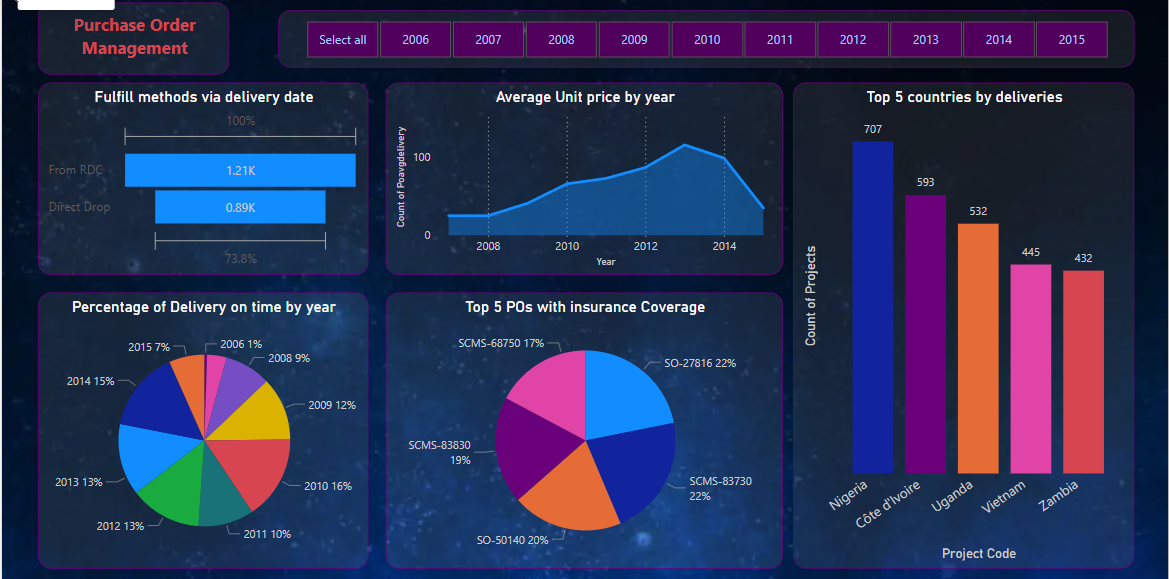

What the dashboard file says about the page in this screenshot:
{"tool":"powerbi","page":{"name":"Page 2","canvas":[1280,720],"ordinal":1},"visuals":[{"type":"pieChart","title":"Percentage of Delivery on time by year","fields":{"Category":["Supply Chain Shipment Pricing.Delivered to Client Date.Variation.Date Hierarchy.Year"],"Y":["CountNonNull(Supply Chain Shipment Pricing.Delivery Recorded Date)"]},"box":[39.8,359.5,362.3,303.3],"z":0},{"type":"funnel","title":"Fulfill methods via delivery date","fields":{"Category":["Supply Chain Shipment Pricing.Fulfill Via"],"Y":["Count(Supply Chain Shipment Pricing.Delivered to Client Date)"]},"box":[39.8,129,362.3,211.3],"z":1000},{"type":"pieChart","title":"Top 5 POs with insurance Coverage","fields":{"Category":["Supply Chain Shipment Pricing.PO / SO #"],"Y":["Sum(Supply Chain Shipment Pricing.Line Item Insurance (USD))"]},"box":[421.3,359.5,436.4,303.3],"z":2000},{"type":"columnChart","title":"Top 5 countries by deliveries","fields":{"Category":["Supply Chain Shipment Pricing.Country"],"Y":["CountNonNull(Supply Chain Shipment Pricing.Delivery Recorded Date)"]},"box":[868.6,129,374.6,533.8],"z":3000},{"type":"stackedAreaChart","title":"Average Unit price by year","fields":{"Category":["Supply Chain Shipment Pricing.Delivery Recorded Date.Variation.Date Hierarchy.Year"],"Y":["CountNonNull(Supply Chain Shipment Pricing.Poavgdelivery)"]},"box":[421.3,129,436.4,211.3],"z":4000},{"type":"slicer","fields":{"Values":["Supply Chain Shipment Pricing.Scheduled Delivery Date.Variation.Date Hierarchy.Year"]},"box":[303.3,49.4,940,63.1],"z":5000},{"type":"textbox","box":[39.8,41.2,209.9,79.6],"z":6000}]}

Visuals, with their boxes on the page's 1280x720 design canvas (x1, y1, x2, y2). These are canvas units, not pixel positions in the 1169x579 screenshot, which may show the page scaled, cropped or inside an application window:
"Percentage of Delivery on time by year" pieChart: <region>40, 360, 402, 663</region>
"Fulfill methods via delivery date" funnel: <region>40, 129, 402, 340</region>
"Top 5 POs with insurance Coverage" pieChart: <region>421, 360, 858, 663</region>
"Top 5 countries by deliveries" columnChart: <region>869, 129, 1243, 663</region>
"Average Unit price by year" stackedAreaChart: <region>421, 129, 858, 340</region>
slicer - Supply Chain Shipment Pricing.Scheduled Delivery Date.Variation.Date Hierarchy.Year: <region>303, 49, 1243, 112</region>
textbox: <region>40, 41, 250, 121</region>
